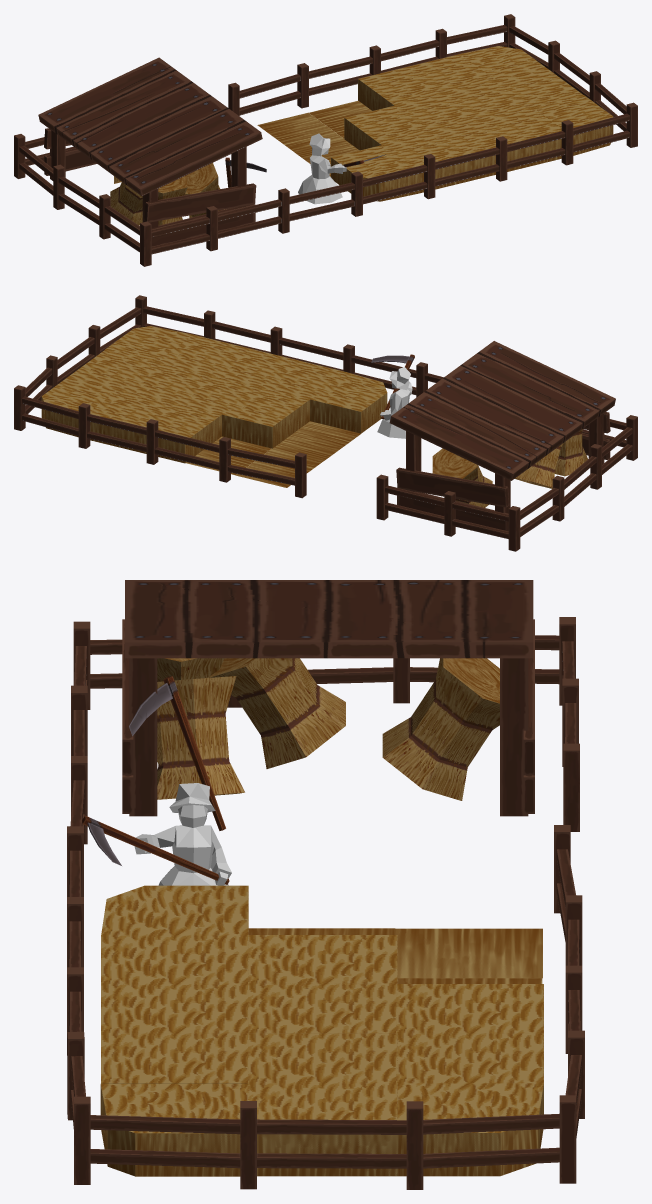
3 renders of one model, top to bottom at view 1: azimuth 30°, elevation 25°; view 2: azimuth 150°, elevation 25°; view 3: azimuth 270°, elevation 25°, orthographic. The views are drawn at different scales.
Parts seen in each view (by area): view 1: Cube.002, Cube.036, Cube.004, Circle.000, Cube.007, Cube.008; view 2: Cube.002, Cube.036, Cube.008, Circle.000, Cube.004, Cube.007, Cube.010; view 3: Cube.002, Cube.036, Cube.004, Circle.000, Cube.011, Cube.010, Cube.008, Cube.007.
Boxes of the visible parts, left/top/right/bottom form: Cube.002: left=14, top=14, right=637, bottom=266; Cube.036: left=331, top=46, right=613, bottom=201; Cube.004: left=257, top=112, right=344, bottom=151; Circle.000: left=298, top=133, right=346, bottom=204; Cube.007: left=309, top=100, right=371, bottom=138; Cube.008: left=294, top=140, right=359, bottom=176; Cube.002: left=14, top=295, right=637, bottom=551; Cube.036: left=41, top=326, right=387, bottom=463; Cube.008: left=273, top=421, right=360, bottom=460; Circle.000: left=377, top=367, right=412, bottom=438; Cube.004: left=236, top=448, right=323, bottom=487; Cube.007: left=186, top=436, right=271, bottom=475; Cube.010: left=371, top=354, right=414, bottom=419; Cube.002: left=67, top=580, right=584, bottom=1189; Cube.036: left=100, top=885, right=543, bottom=1176; Cube.004: left=395, top=928, right=542, bottom=978; Circle.000: left=134, top=783, right=231, bottom=885; Cube.011: left=129, top=676, right=225, bottom=830; Cube.010: left=82, top=815, right=229, bottom=884; Cube.008: left=248, top=928, right=395, bottom=934; Cube.007: left=397, top=978, right=542, bottom=983.
Bounding box in the file's own units: 1158 × 223 × 513.
